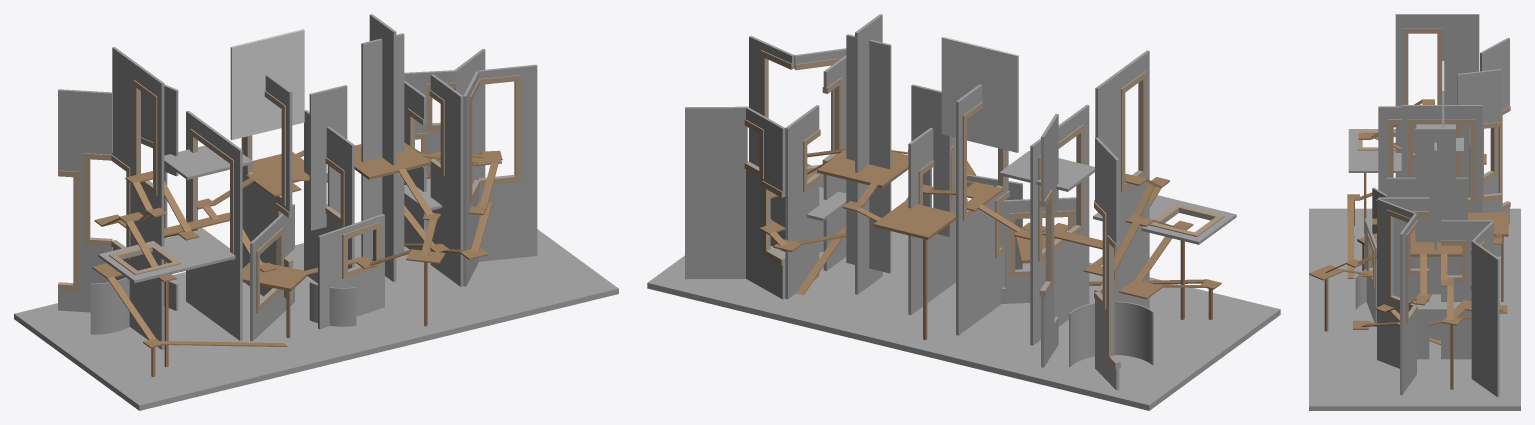
Rendered from 12_SUN.glb.
3 views of the same model, side by side, from view 1: azimuth 30°, elevation 25°; view 2: azimuth 150°, elevation 25°; view 3: azimuth 270°, elevation 25° (orthographic). The views are drawn at different scales.
Parts seen in each view (by area): view 1: 01 DIZUO, 06 KAO, 09 YA, 02 JIE, 12 SUN, 07 XUAN, 03 DING, 11 ZHA, 10 PIN, 08 CHUI, 05AN, 04 ZHUAN; view 2: 01 DIZUO, 06 KAO, 09 YA, 05AN, 12 SUN, 03 DING, 07 XUAN, 11 ZHA, 04 ZHUAN, 02 JIE, 08 CHUI, 10 PIN; view 3: 01 DIZUO, 06 KAO, 03 DING, 02 JIE, 12 SUN, 05AN, 09 YA, 07 XUAN, 11 ZHA, 10 PIN, 04 ZHUAN, 08 CHUI.
Part boxes in pixels (bbox=[...]): 01 DIZUO: bbox=[14, 142, 618, 410]; 06 KAO: bbox=[58, 47, 235, 349]; 09 YA: bbox=[230, 29, 304, 300]; 02 JIE: bbox=[463, 64, 537, 286]; 12 SUN: bbox=[361, 14, 404, 281]; 07 XUAN: bbox=[164, 110, 252, 340]; 03 DING: bbox=[404, 74, 463, 286]; 11 ZHA: bbox=[304, 85, 354, 283]; 10 PIN: bbox=[309, 214, 384, 329]; 08 CHUI: bbox=[250, 204, 294, 341]; 05AN: bbox=[453, 49, 485, 184]; 04 ZHUAN: bbox=[404, 70, 456, 230]; 01 DIZUO: bbox=[647, 148, 1280, 410]; 06 KAO: bbox=[1039, 50, 1236, 390]; 09 YA: bbox=[941, 36, 1018, 335]; 05AN: bbox=[685, 106, 747, 279]; 12 SUN: bbox=[846, 14, 891, 294]; 03 DING: bbox=[785, 55, 846, 299]; 07 XUAN: bbox=[999, 104, 1094, 345]; 11 ZHA: bbox=[908, 84, 955, 314]; 04 ZHUAN: bbox=[744, 107, 785, 299]; 02 JIE: bbox=[749, 36, 846, 252]; 08 CHUI: bbox=[999, 197, 1076, 303]; 10 PIN: bbox=[967, 174, 1022, 269]; 01 DIZUO: bbox=[1309, 99, 1520, 410]; 06 KAO: bbox=[1348, 14, 1510, 256]; 03 DING: bbox=[1378, 197, 1491, 359]; 02 JIE: bbox=[1377, 198, 1417, 395]; 12 SUN: bbox=[1415, 128, 1455, 340]; 05AN: bbox=[1471, 241, 1499, 397]; 09 YA: bbox=[1401, 61, 1482, 212]; 07 XUAN: bbox=[1378, 106, 1469, 197]; 11 ZHA: bbox=[1387, 177, 1467, 275]; 10 PIN: bbox=[1355, 218, 1376, 323]; 04 ZHUAN: bbox=[1470, 221, 1493, 289]; 08 CHUI: bbox=[1372, 187, 1386, 266].
Size of the model in its own units: 9.23 by 5 by 4.18.
